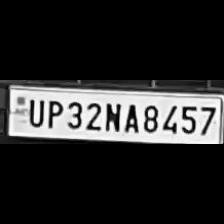2: (82, 99, 102, 131)
3: (62, 98, 82, 130)
4: (160, 102, 178, 134)
5: (178, 102, 198, 136)
7: (197, 104, 215, 136)
8: (140, 102, 158, 134)
A: (121, 101, 139, 133)
N: (102, 98, 120, 132)
P: (43, 97, 62, 129)
U: (24, 97, 44, 127)
